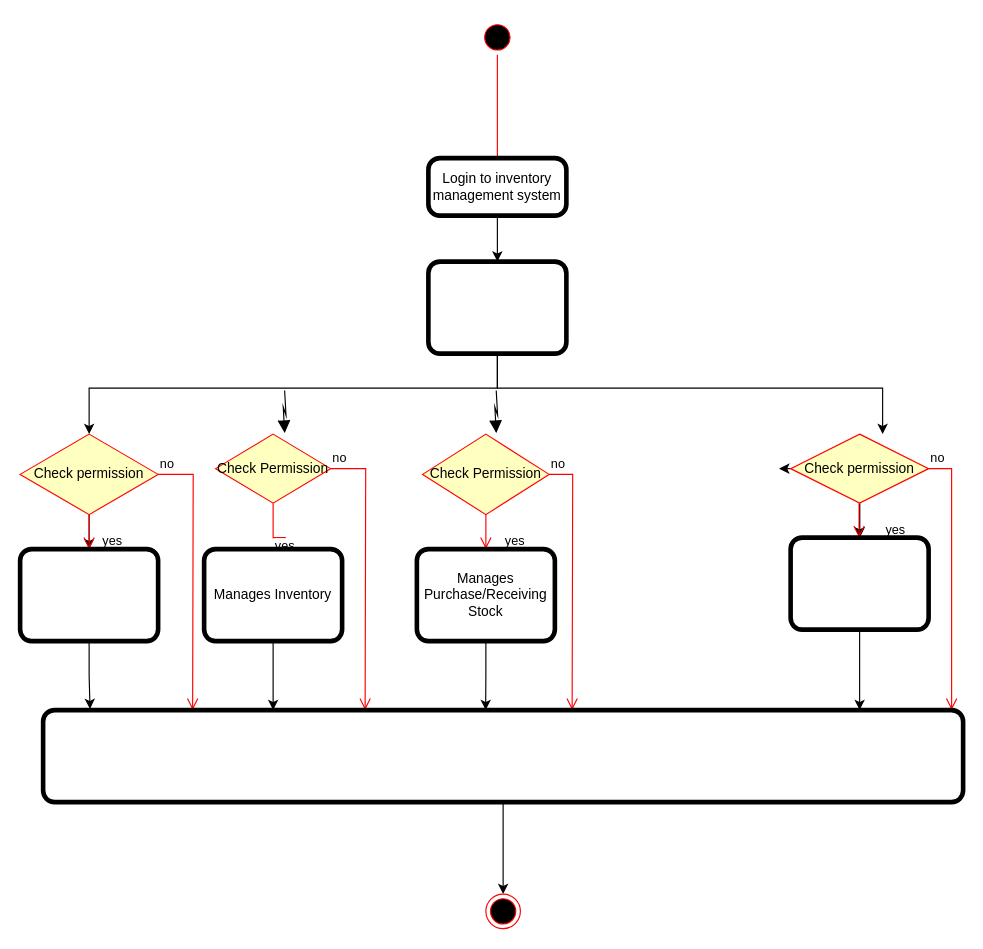
This 983x949 diagram has some shape labels left out. The shapes that lost their labels are listed below. From the top down, each one's box as (x1, y1, x2, y2) in pixels, then its label:
(427, 260, 566, 354): Check the user level and permission
(19, 548, 158, 641): Manages Application
(789, 536, 929, 630): Make Payment
(42, 709, 963, 802): Logout from the inventory management system
